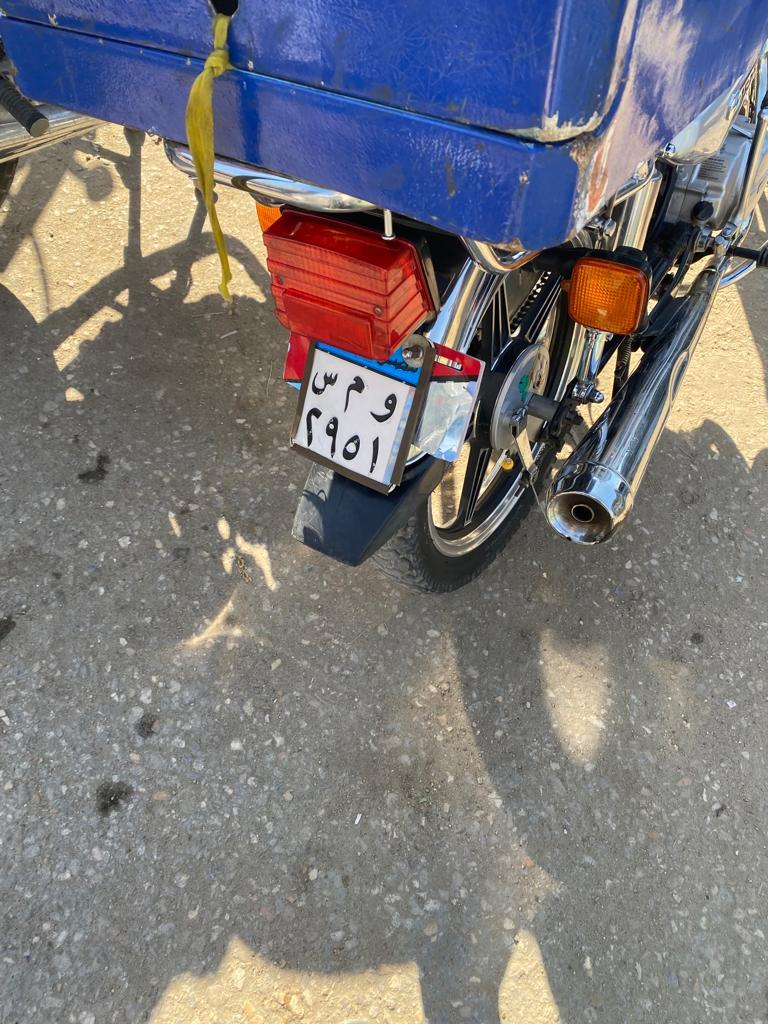License Plate: (286, 326, 454, 491)
